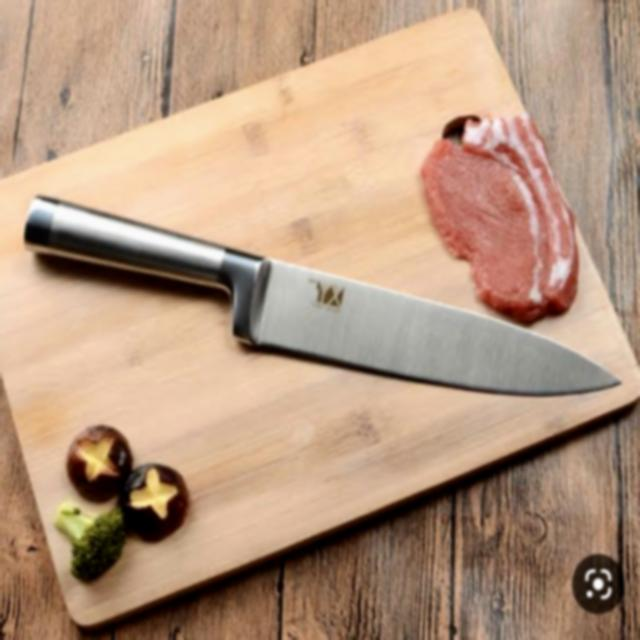knife: (17, 188, 638, 400)
